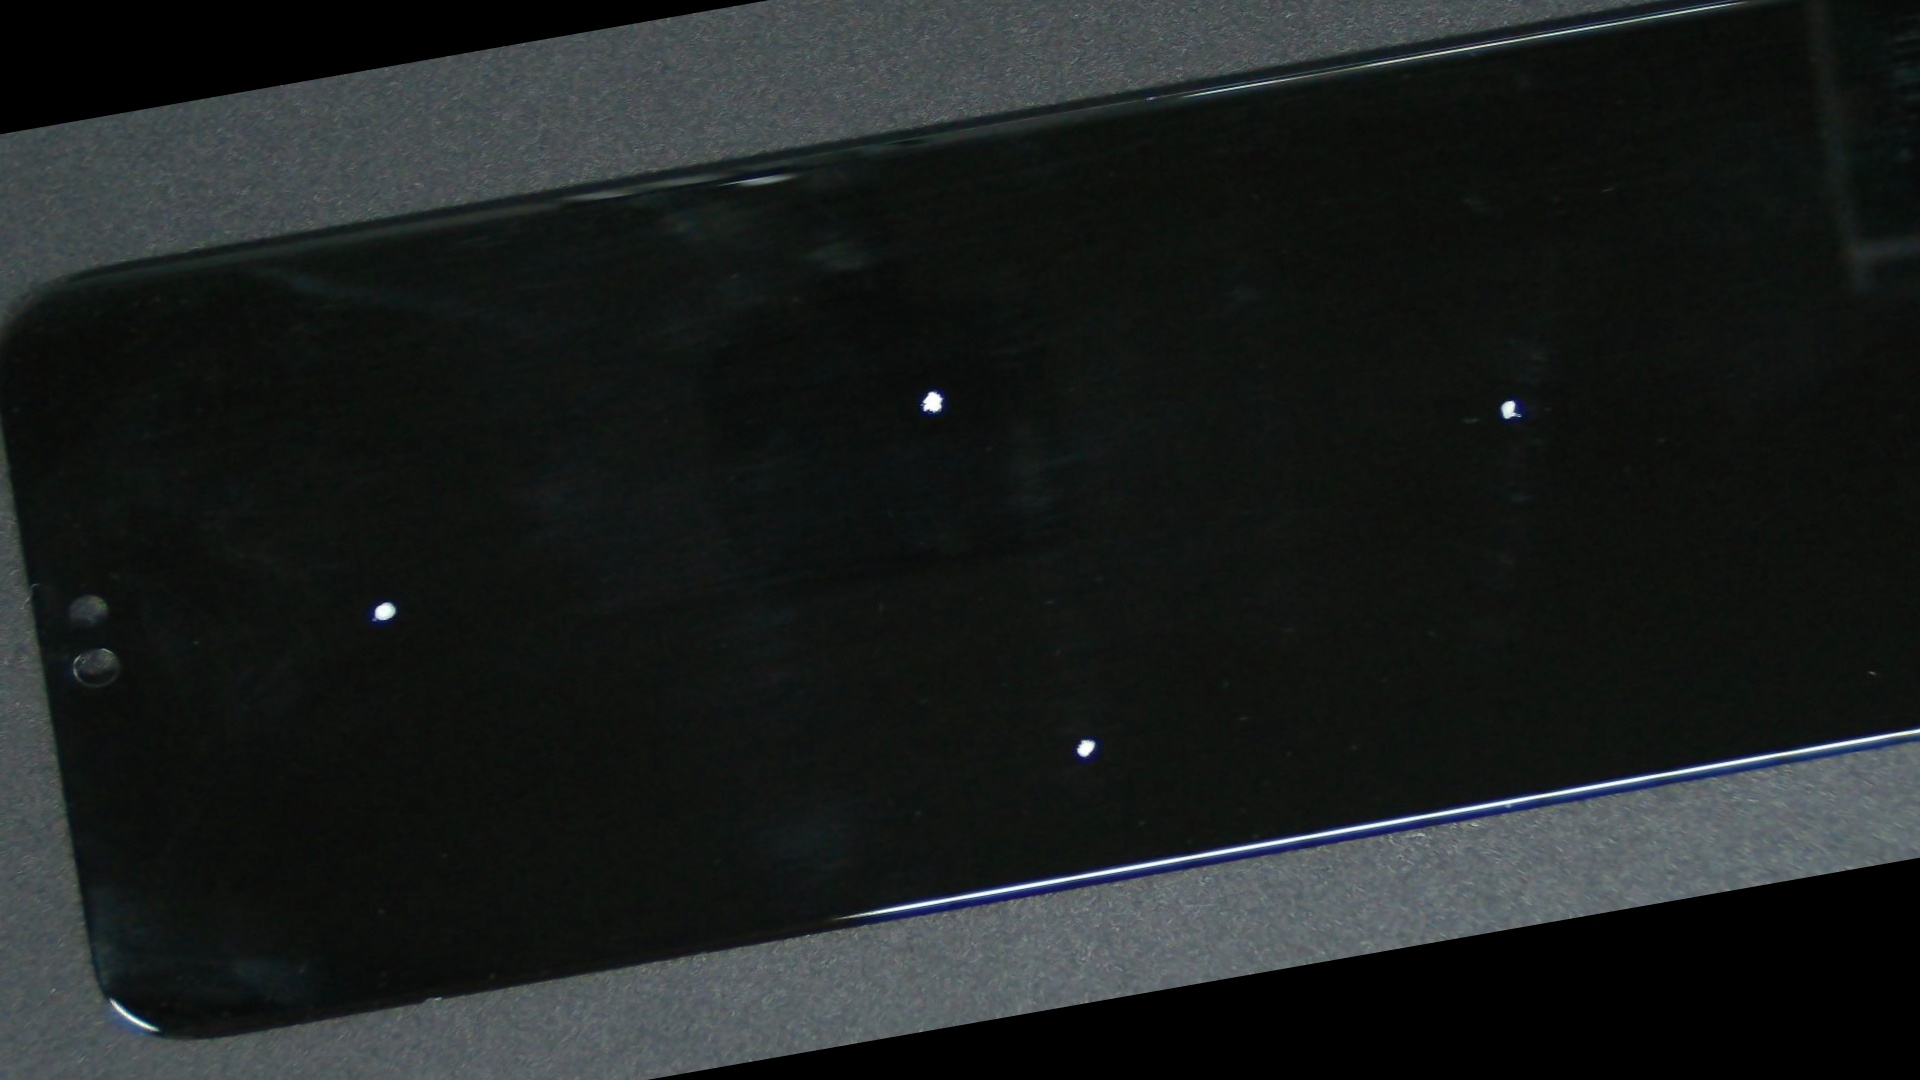oil: (440, 254, 1698, 1080), (654, 35, 1920, 798), (364, 95, 1492, 687), (92, 299, 676, 904)
